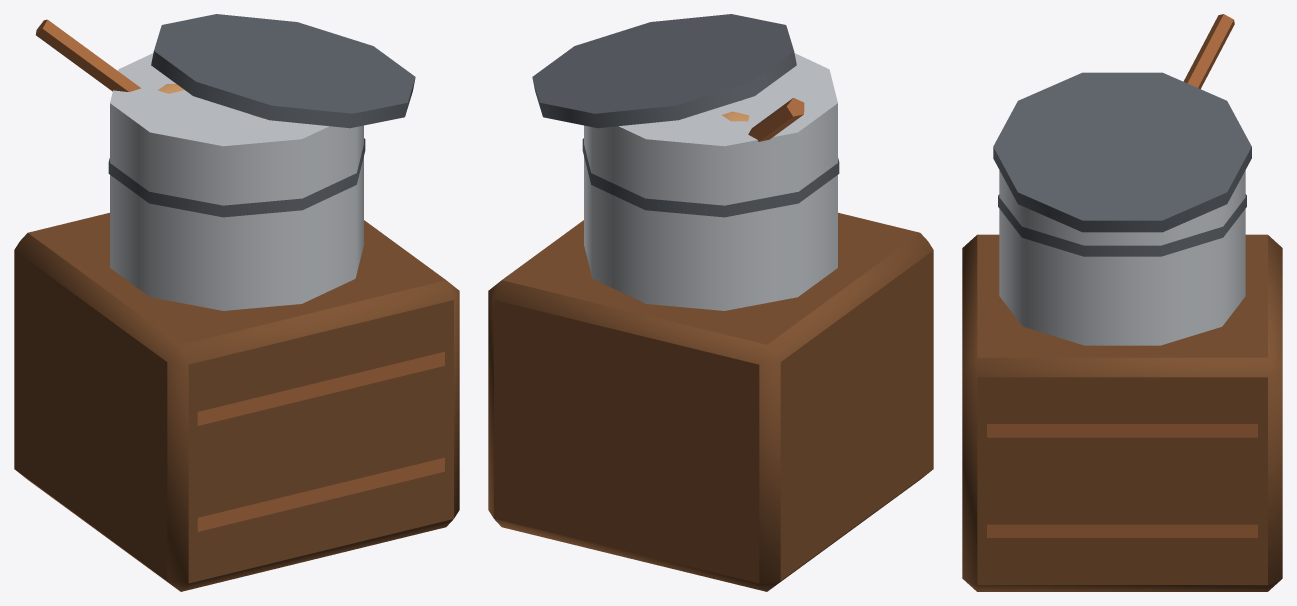
Rendered from prop_keema_pot.glb.
3 views of the same model, side by side, from view 1: azimuth 30°, elevation 25°; view 2: azimuth 150°, elevation 25°; view 3: azimuth 270°, elevation 25° (orthographic). The views are drawn at different scales.
Visible parts, largest first — view 1: prop_keema_pot; view 2: prop_keema_pot; view 3: prop_keema_pot.
Boxes of the visible parts, box(x1,y1,x2,y2) form: prop_keema_pot: box(14, 14, 459, 591); prop_keema_pot: box(488, 14, 933, 591); prop_keema_pot: box(962, 14, 1282, 591).
Bounding box in the file's own units: 0.2711 × 0.4063 × 0.2601.
Materials: 1 (1 with a texture image).
